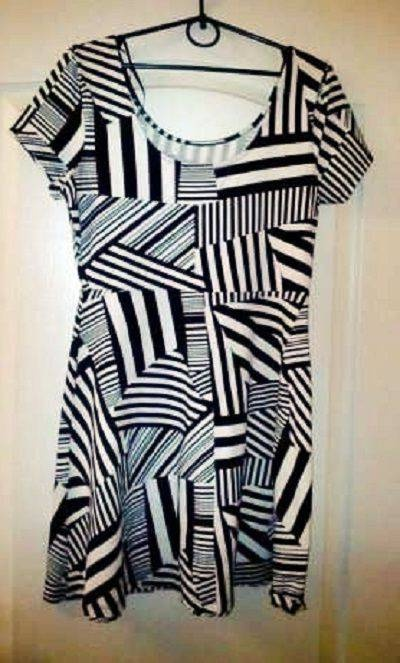Dress: (16, 15, 391, 627)
